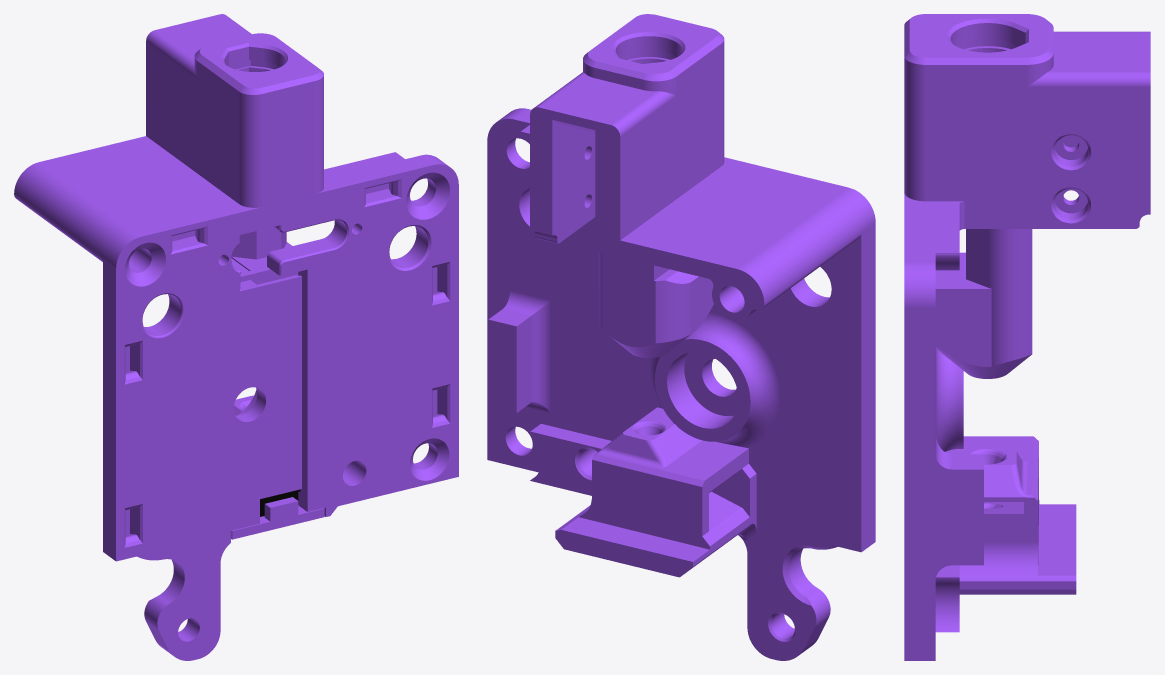
Rendered from extruder gear box for Dual Filament sensor.glb.
3 renders of one model, left to right at view 1: azimuth 30°, elevation 25°; view 2: azimuth 150°, elevation 25°; view 3: azimuth 270°, elevation 25°, orthographic. The views are drawn at different scales.
Bounding box in the file's own units: 0.0527 × 0.0814 × 0.0272.
